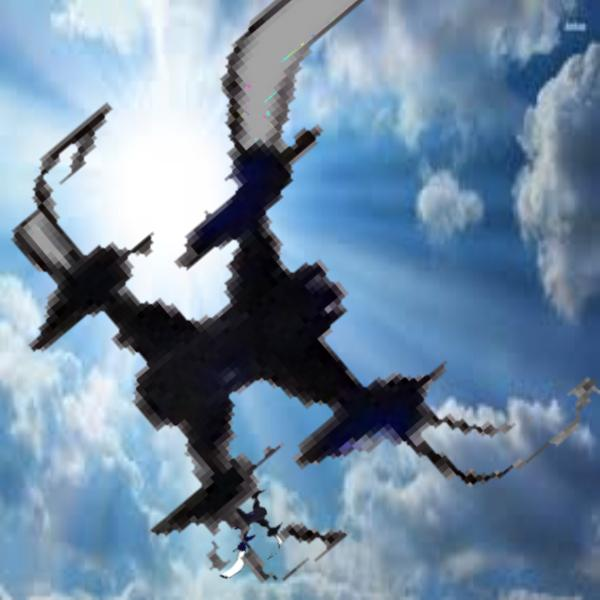drone: (188, 474, 291, 577)
